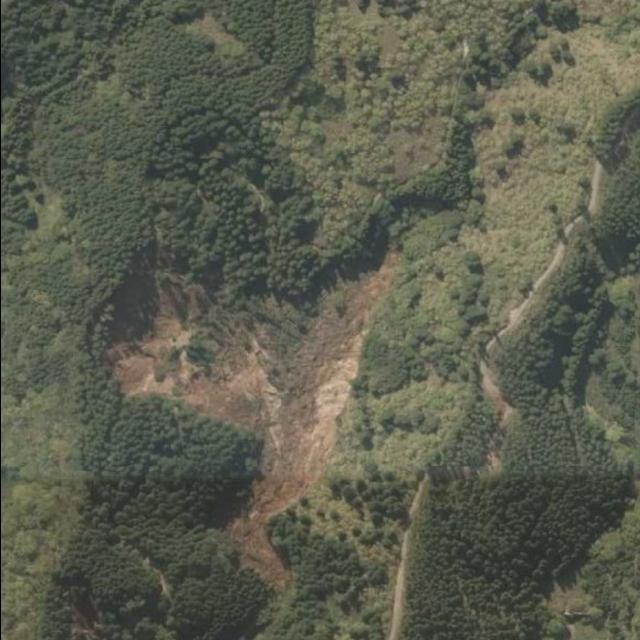landslide: (103, 253, 396, 589)
